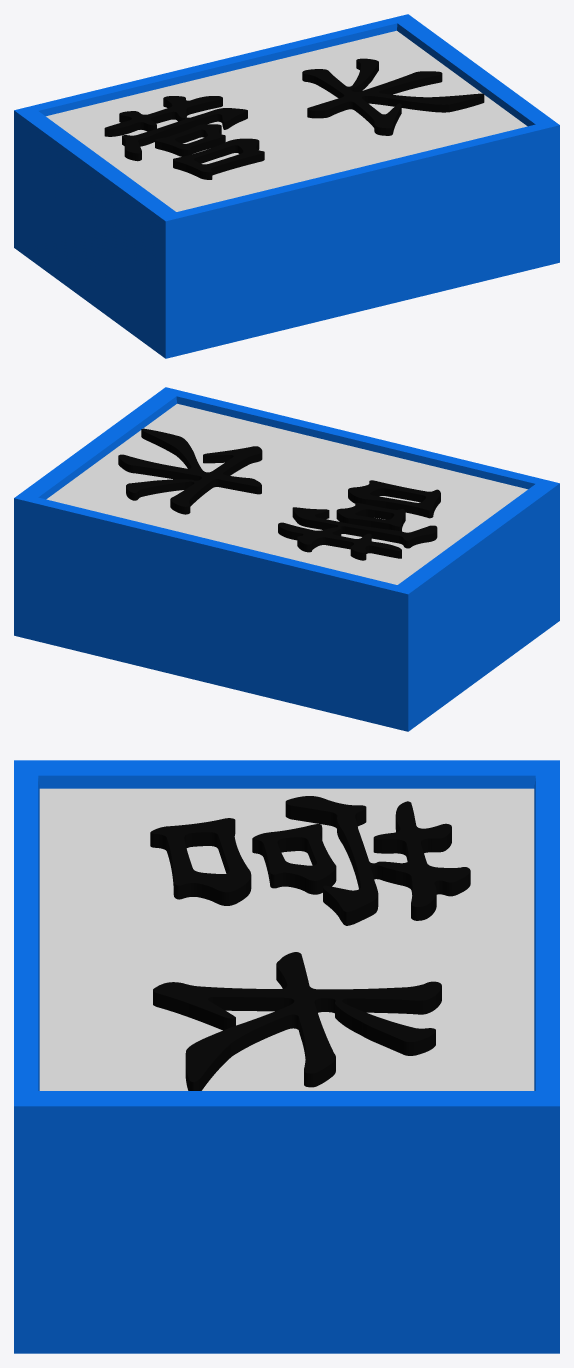
Rendered from 6_ying_zhang.fbx.
3 views of the same model, one above another, from view 1: azimuth 30°, elevation 25°; view 2: azimuth 150°, elevation 25°; view 3: azimuth 270°, elevation 25° (orthographic). The views are drawn at different scales.
Parts seen in each view (by area): view 1: Cube, 文本; view 2: Cube, 文本; view 3: Cube, 文本.
Boxes of the visible parts, bbox=[...] form: Cube: bbox=[14, 14, 559, 358]; 文本: bbox=[104, 58, 484, 179]; Cube: bbox=[14, 387, 559, 731]; 文本: bbox=[118, 428, 440, 560]; Cube: bbox=[14, 760, 559, 1353]; 文本: bbox=[150, 796, 470, 1090].
Bounding box in the file's own units: 240 × 80.47 × 160.
